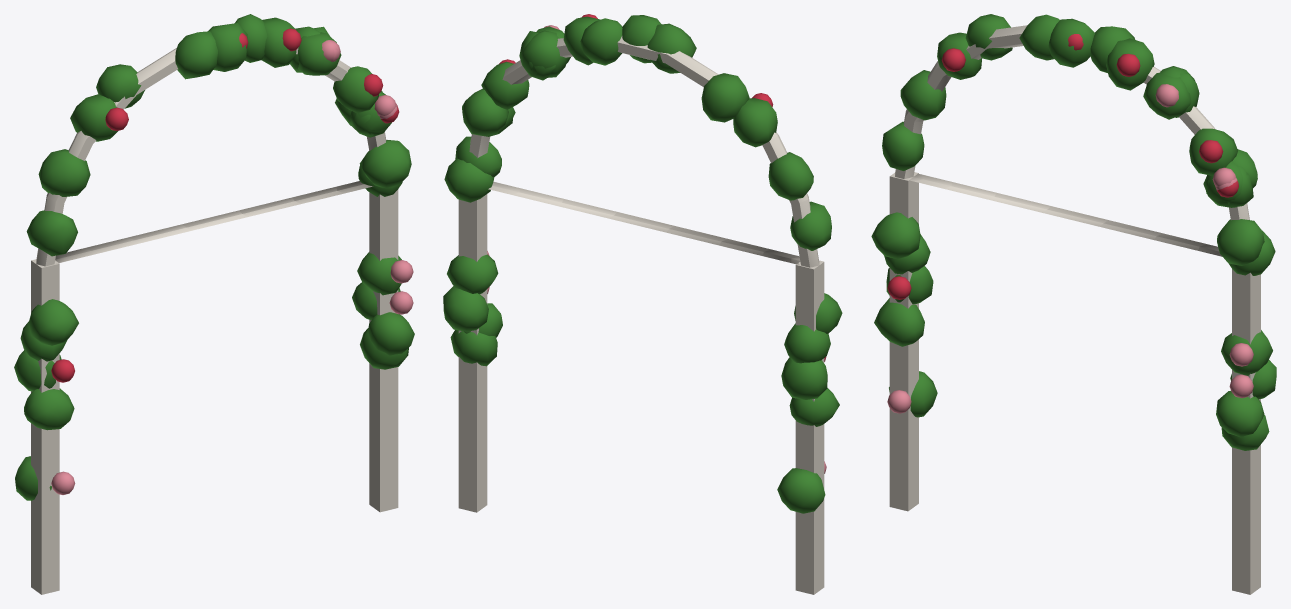
File: rose_arch.glb
The picture shows the model from 3 angles, left to right: view 1: azimuth 30°, elevation 25°; view 2: azimuth 150°, elevation 25°; view 3: azimuth 330°, elevation 25°; orthographic projection.
Parts seen in each view (by area): view 1: decor-rose_arch; view 2: decor-rose_arch; view 3: decor-rose_arch.
Part boxes in pixels (box(x1,y1,x2,y2)): decor-rose_arch: box(14, 14, 414, 594); decor-rose_arch: box(443, 14, 842, 594); decor-rose_arch: box(871, 14, 1276, 594).
Size of the model in its own units: 2.97 by 3.86 by 0.5324.
